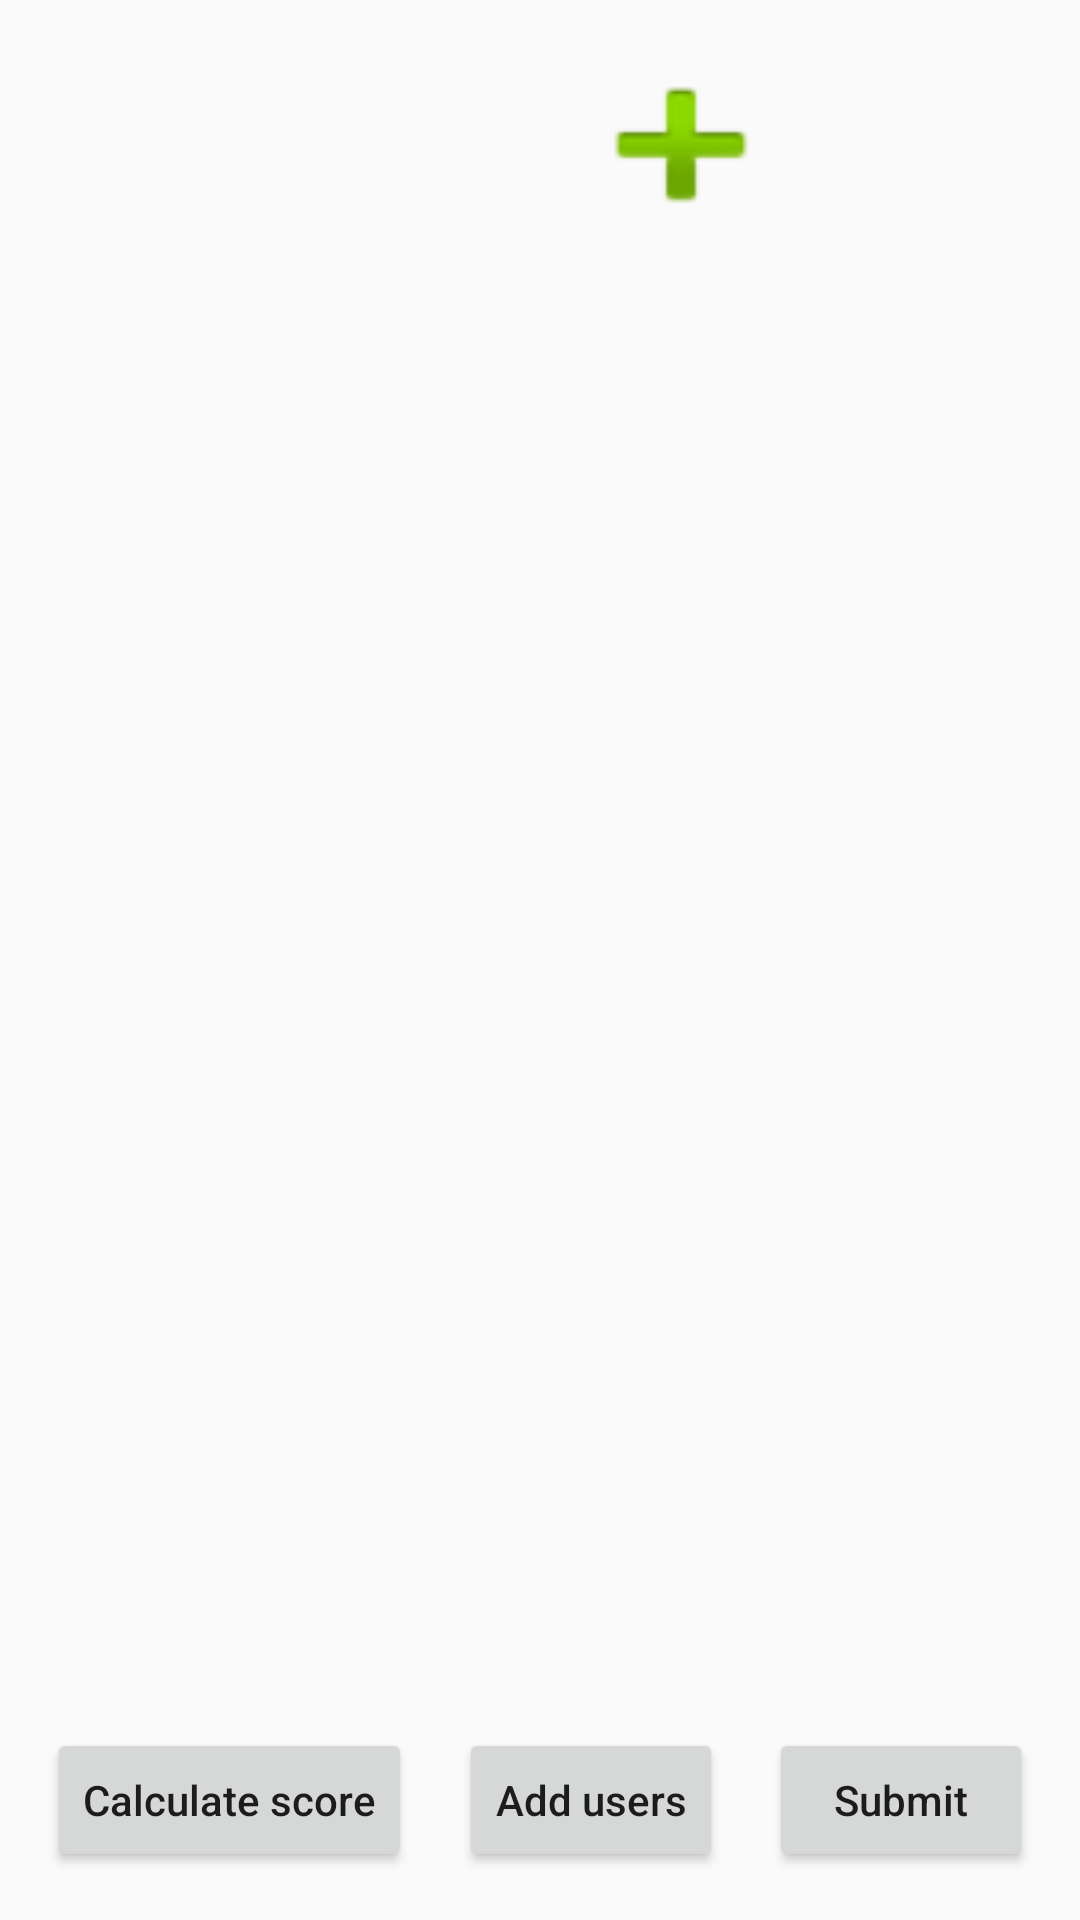

Icons on this 1080w x 1920h Android screen, each with the point to tap as (x=x, y=y):
add: (x=681, y=145)
